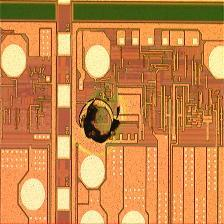PARTICLE: (66, 85, 134, 153)
